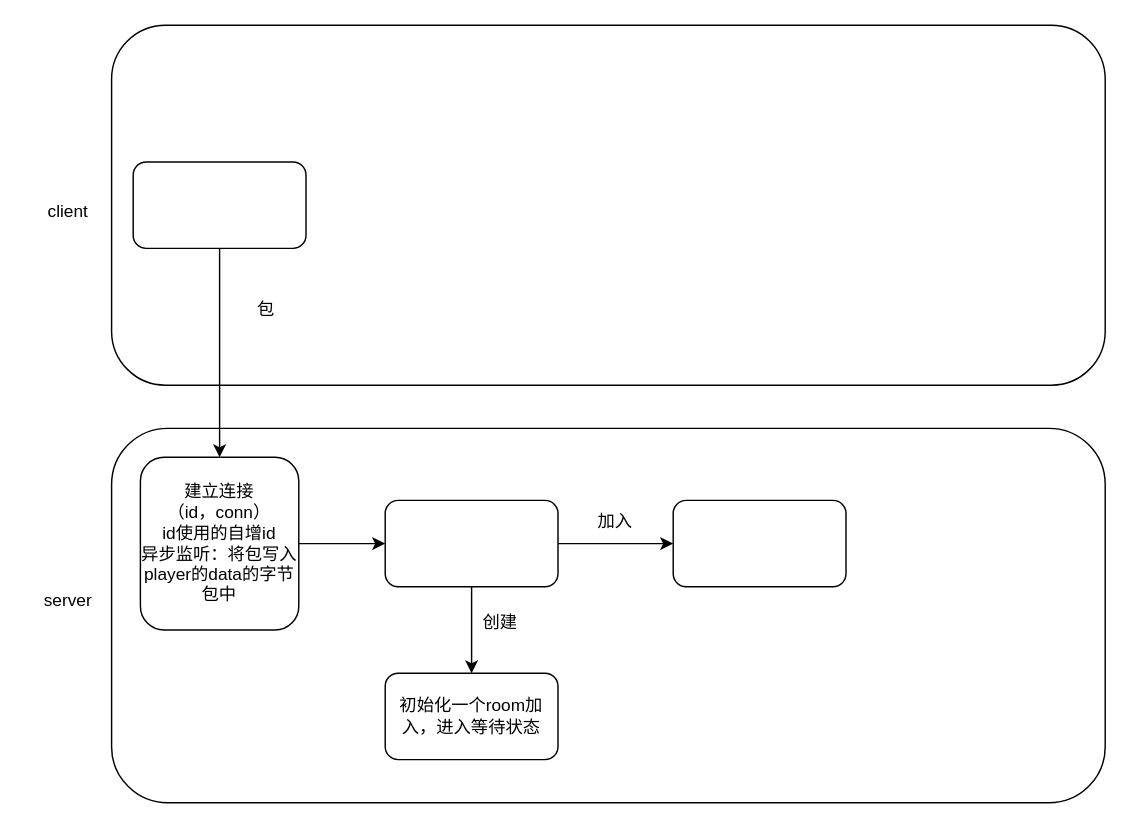
This 1130x828 diagram has some shape labels left out. Each missing label, with the centre of its shape:
"建立连接" goes at (219,204).
"进入welcome阶段 写欢迎信息，请求创建还是加入" goes at (471,543).
